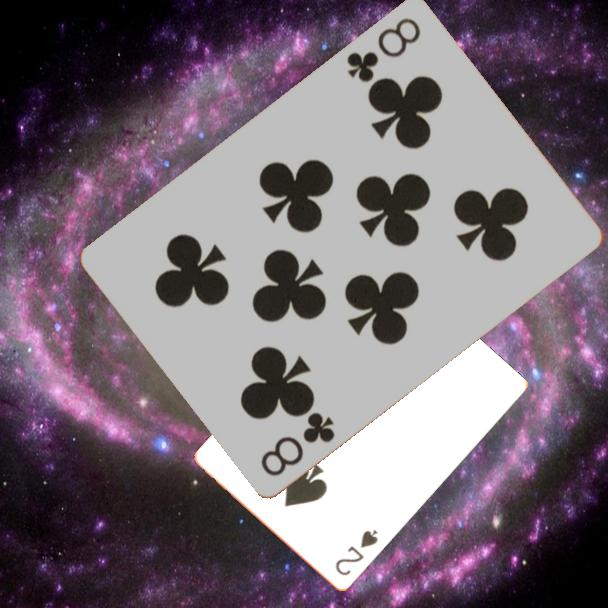c08: (343, 13, 424, 85), (257, 407, 338, 479)
s02: (332, 527, 381, 579)
